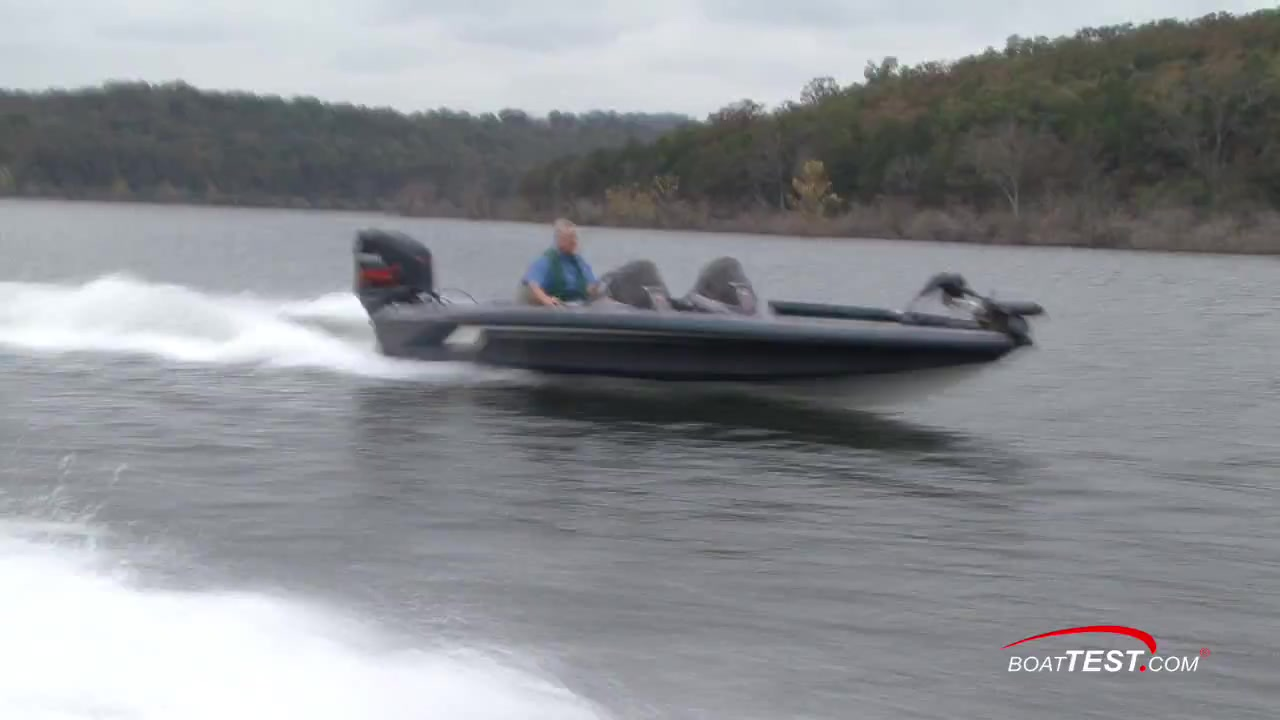boat: (345, 206, 1048, 395)
